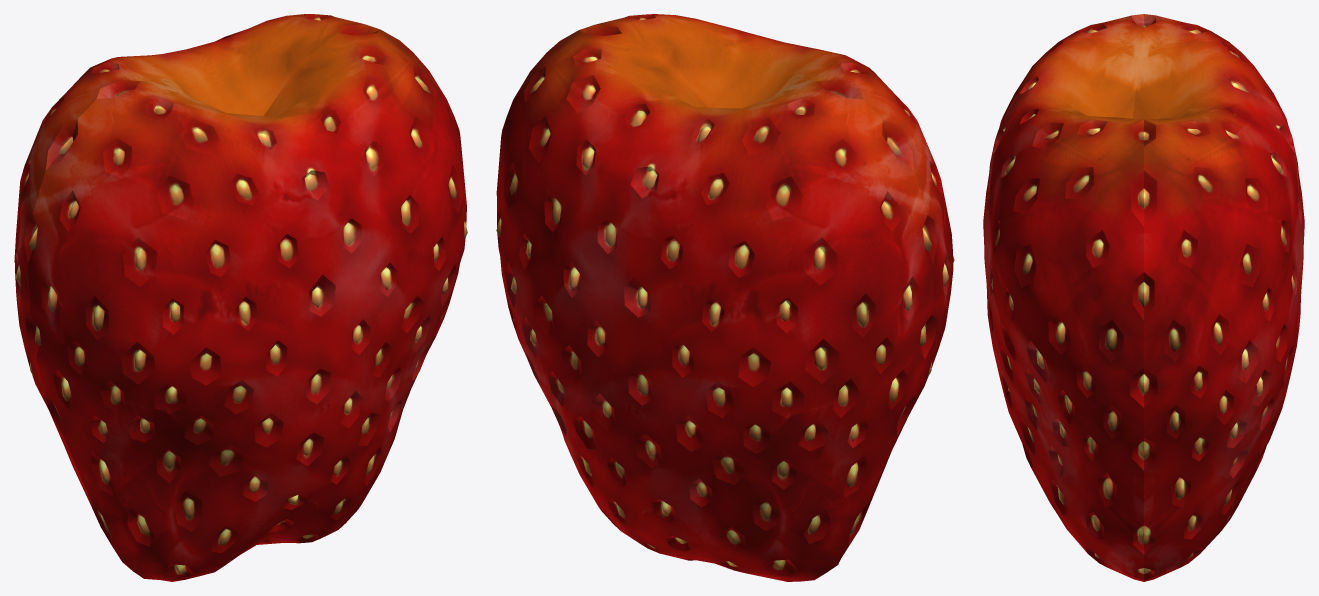
The model's file is mFraise1Outline.FBX.
3 renders of one model, left to right at view 1: azimuth 30°, elevation 25°; view 2: azimuth 150°, elevation 25°; view 3: azimuth 270°, elevation 25°, orthographic. The views are drawn at different scales.
Parts seen in each view (by area): view 1: Fraise_Positif_03_OUTLINE; view 2: Fraise_Positif_03_OUTLINE; view 3: Fraise_Positif_03_OUTLINE.
Boxes of the visible parts, x1,y1,x2,y2 form: Fraise_Positif_03_OUTLINE: (14,14,467,581); Fraise_Positif_03_OUTLINE: (496,14,954,581); Fraise_Positif_03_OUTLINE: (983,14,1304,581).
Size of the model in its own units: 1.53 by 1.75 by 1.06.
